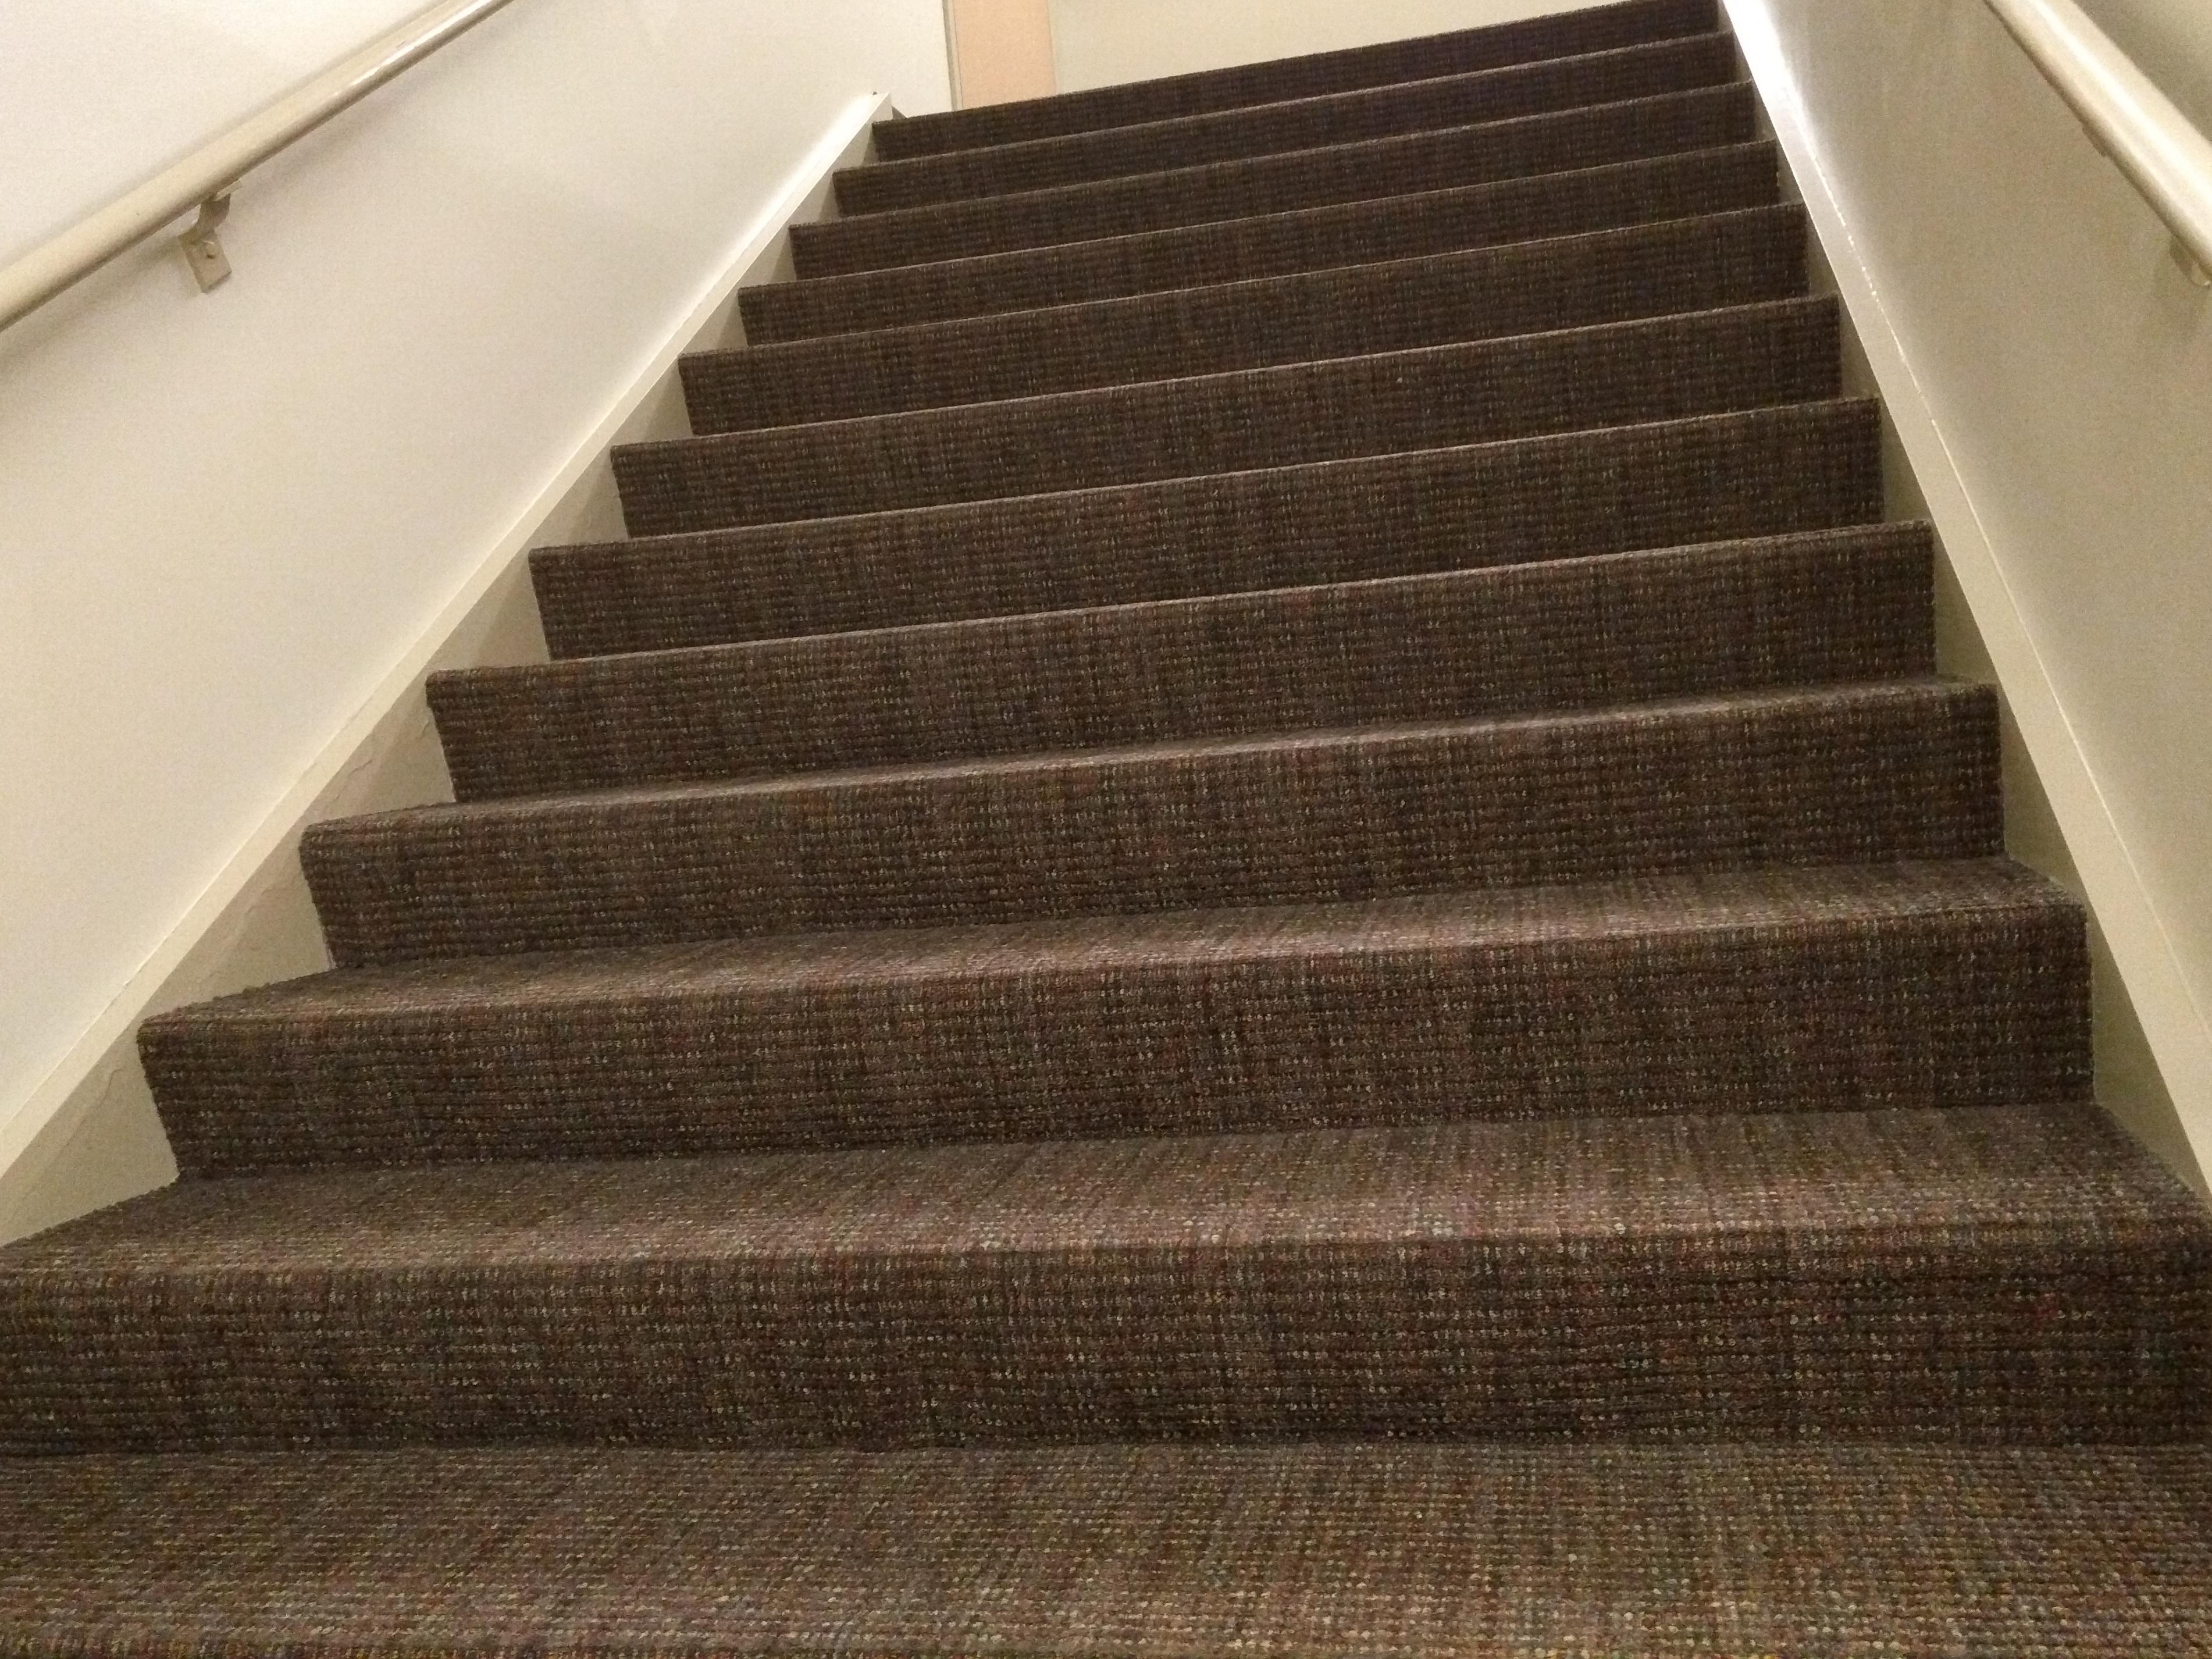stairs_up: (14, 7, 2155, 1450)
